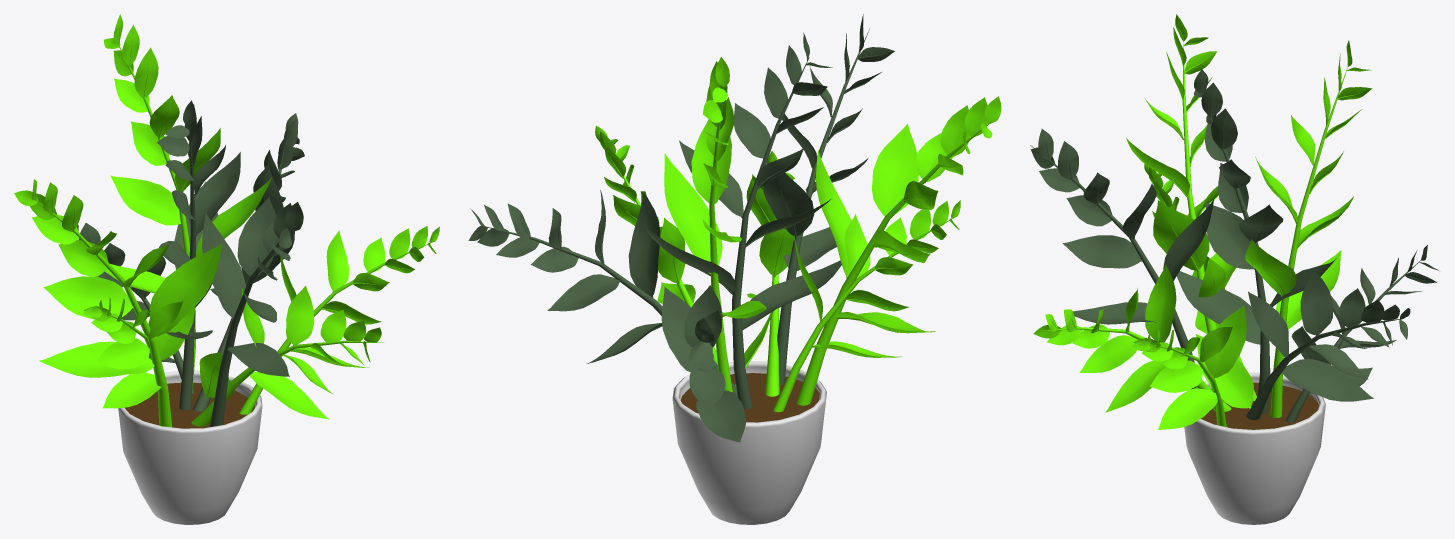
Rendered from plant.fbx.
3 views of the same model, side by side, from view 1: azimuth 30°, elevation 25°; view 2: azimuth 150°, elevation 25°; view 3: azimuth 270°, elevation 25° (orthographic). The views are drawn at different scales.
Visible parts, largest first — view 1: polySurface91; view 2: polySurface91; view 3: polySurface91.
Boxes of the visible parts, <box> form: polySurface91: <box>14,14,439,524</box>; polySurface91: <box>468,14,1001,524</box>; polySurface91: <box>1030,14,1439,524</box>.
Bounding box in the file's own units: 3.93 × 4.43 × 3.58.
